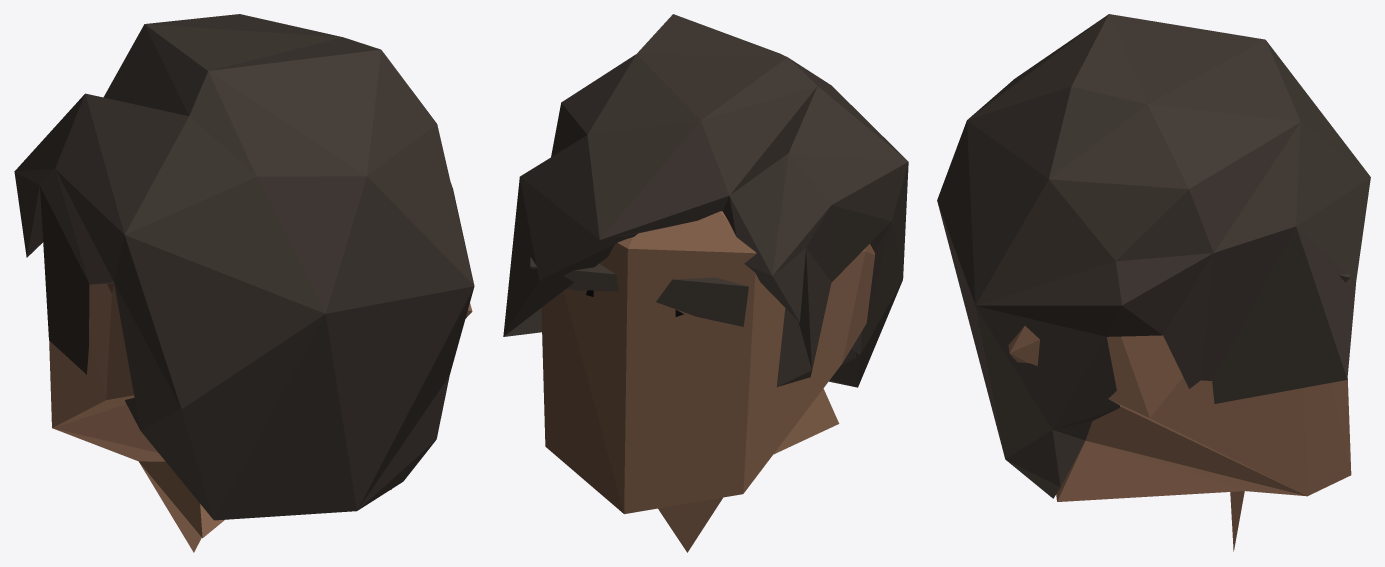
The model's file is Head.obj.
3 views of the same model, side by side, from view 1: azimuth 30°, elevation 25°; view 2: azimuth 150°, elevation 25°; view 3: azimuth 270°, elevation 25° (orthographic). The views are drawn at different scales.
Size of the model in its own units: 0.2813 by 0.4005 by 0.3057.
1 material, 1 textured.
